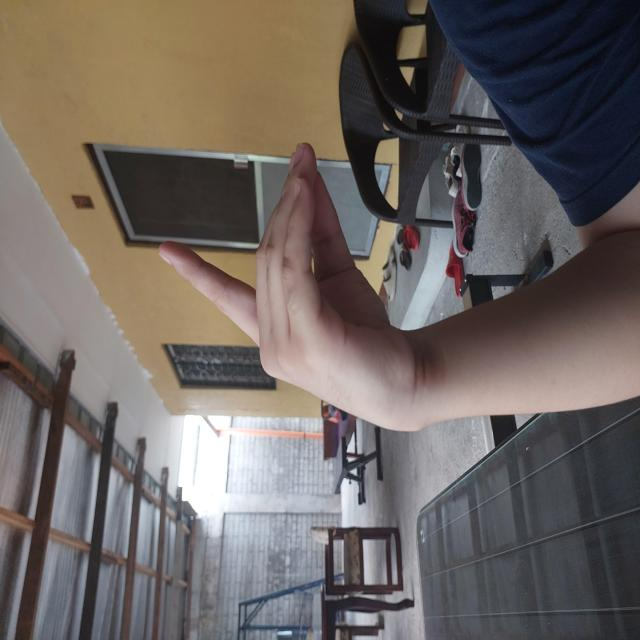D: (207, 154, 502, 418)
